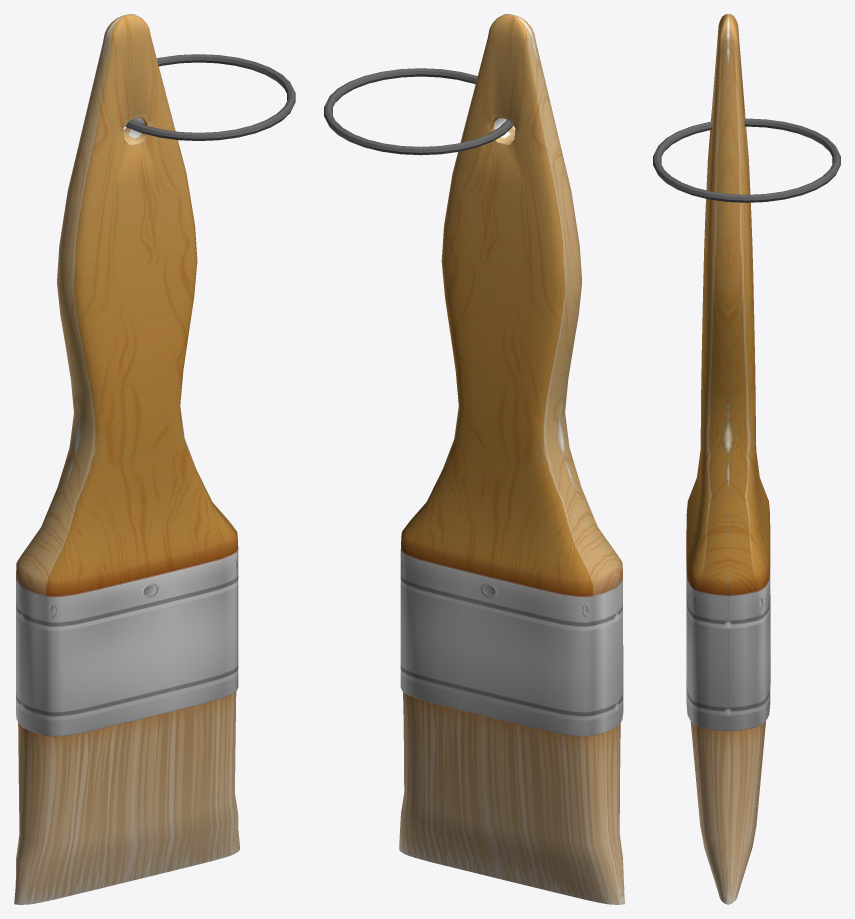
3 views of the same model, side by side, from view 1: azimuth 30°, elevation 25°; view 2: azimuth 150°, elevation 25°; view 3: azimuth 270°, elevation 25° (orthographic). The views are drawn at different scales.
Parts seen in each view (by area): view 1: JJ_MaoShua; view 2: JJ_MaoShua; view 3: JJ_MaoShua.
Boxes of the visible parts, x1,y1,x2,y2 form: JJ_MaoShua: (14,14,295,904); JJ_MaoShua: (324,14,624,904); JJ_MaoShua: (653,14,840,904).
Size of the model in its own units: 7.74 by 22.85 by 4.66.
Materials: 2 (1 with a texture image).
